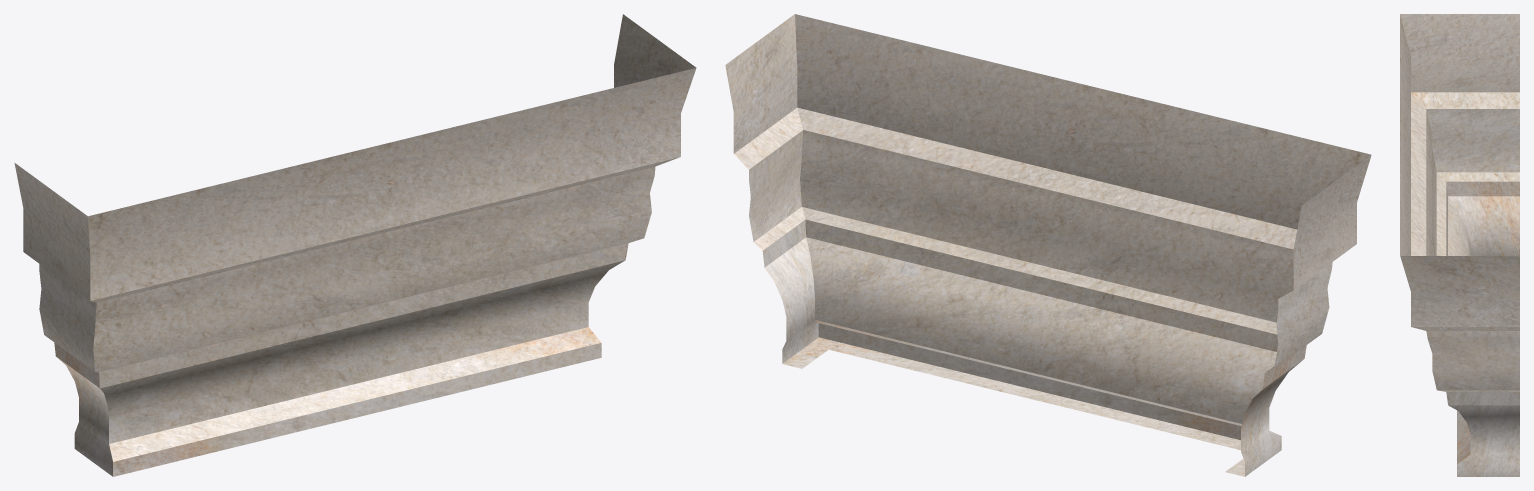
Rendered from CapitelloTerrazzo.fbx.
The picture shows the model from 3 angles, left to right: view 1: azimuth 30°, elevation 25°; view 2: azimuth 150°, elevation 25°; view 3: azimuth 270°, elevation 25°; orthographic projection. The views are drawn at different scales.
Visible parts, largest first — view 1: CapitelloTerrazzo; view 2: CapitelloTerrazzo; view 3: CapitelloTerrazzo.
Part boxes in pixels (x1,y1,x2,y2): CapitelloTerrazzo: (14, 14, 696, 476); CapitelloTerrazzo: (725, 14, 1371, 476); CapitelloTerrazzo: (1400, 14, 1519, 476).
Bounding box in the file's own units: 53.31 × 25.19 × 11.15.
